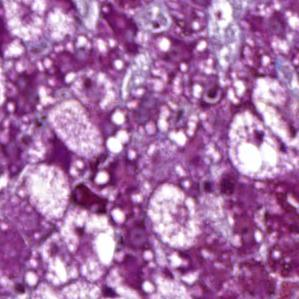ballooning: (57, 198, 119, 285), (227, 102, 289, 183), (149, 185, 201, 254)
